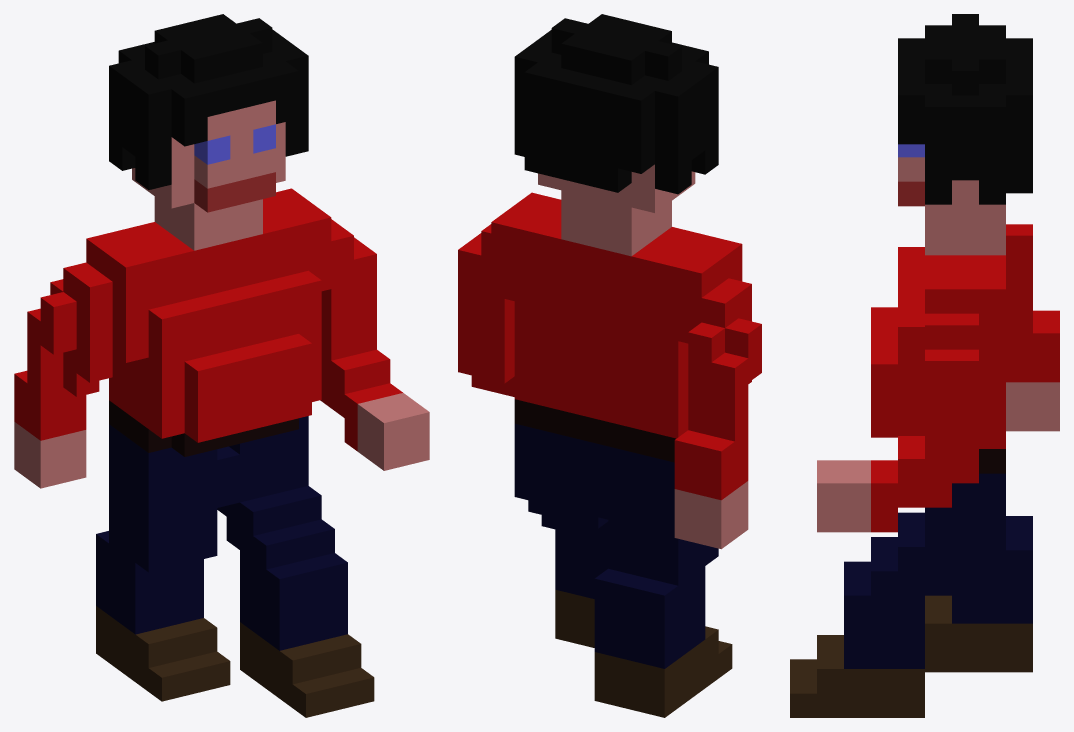
The model's file is classic rot walk2.obj.
The picture shows the model from 3 angles, left to right: view 1: azimuth 30°, elevation 25°; view 2: azimuth 150°, elevation 25°; view 3: azimuth 270°, elevation 25°; orthographic projection. The views are drawn at different scales.
Size of the model in its own units: 1.3 by 2.6 by 1.
Materials: 1 (1 with a texture image).
